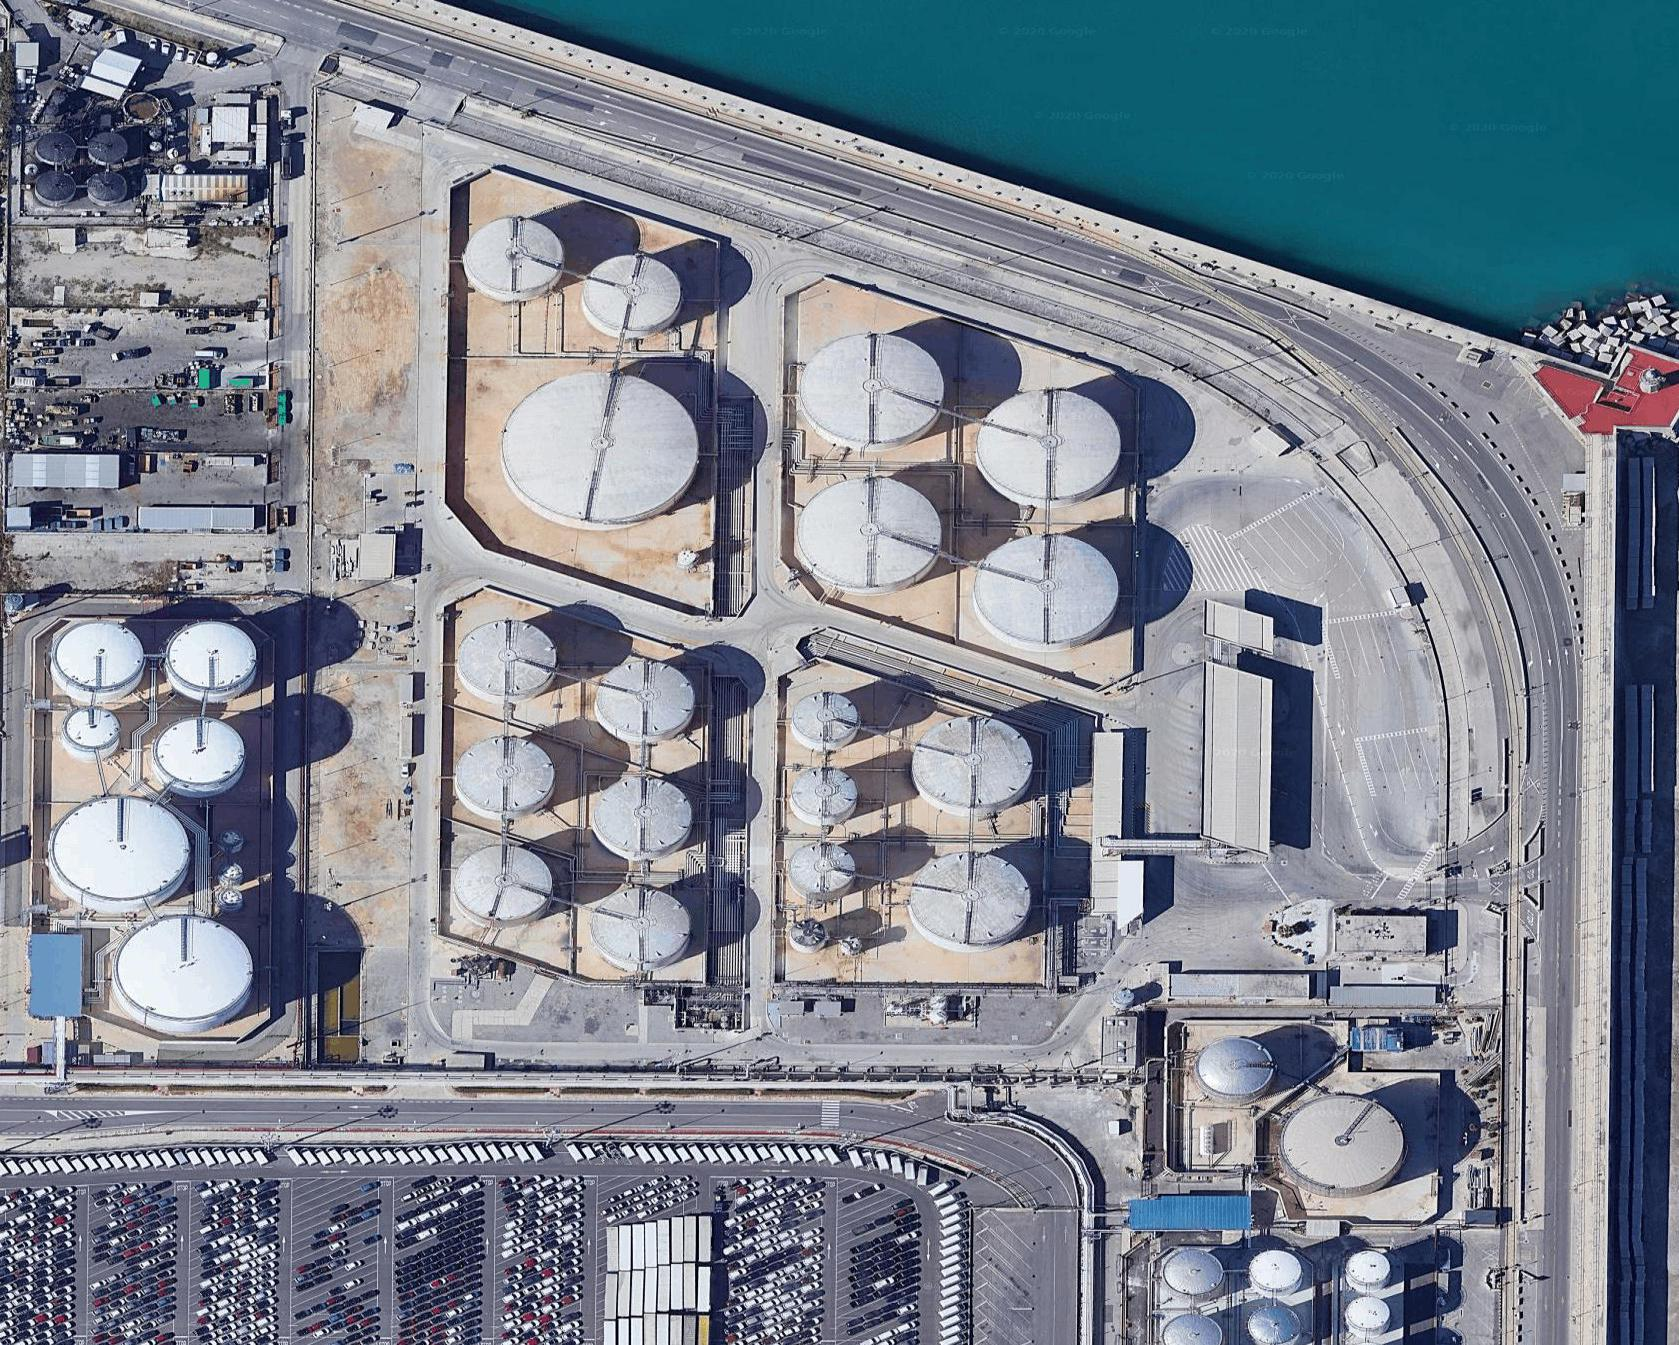storage-tank: (491, 366, 702, 528), (966, 531, 1122, 646), (971, 388, 1122, 505), (47, 793, 195, 909), (796, 476, 946, 590), (800, 331, 947, 446), (113, 911, 255, 1029), (1277, 1095, 1404, 1193), (903, 855, 1030, 951), (914, 719, 1032, 817), (585, 889, 695, 980), (452, 733, 561, 821), (585, 773, 696, 859), (454, 618, 560, 705), (579, 251, 685, 339), (590, 662, 697, 748), (448, 840, 555, 924), (463, 215, 561, 303), (146, 715, 250, 797), (49, 618, 146, 703), (163, 622, 259, 701), (1200, 1040, 1275, 1102), (787, 760, 857, 826), (787, 839, 857, 903), (789, 694, 864, 749), (1161, 1248, 1230, 1302), (60, 705, 121, 759), (1343, 1248, 1393, 1294), (1251, 1249, 1301, 1293), (1343, 1297, 1393, 1340), (784, 910, 828, 958), (1247, 1305, 1297, 1345), (1166, 1311, 1216, 1344), (836, 926, 865, 963)
